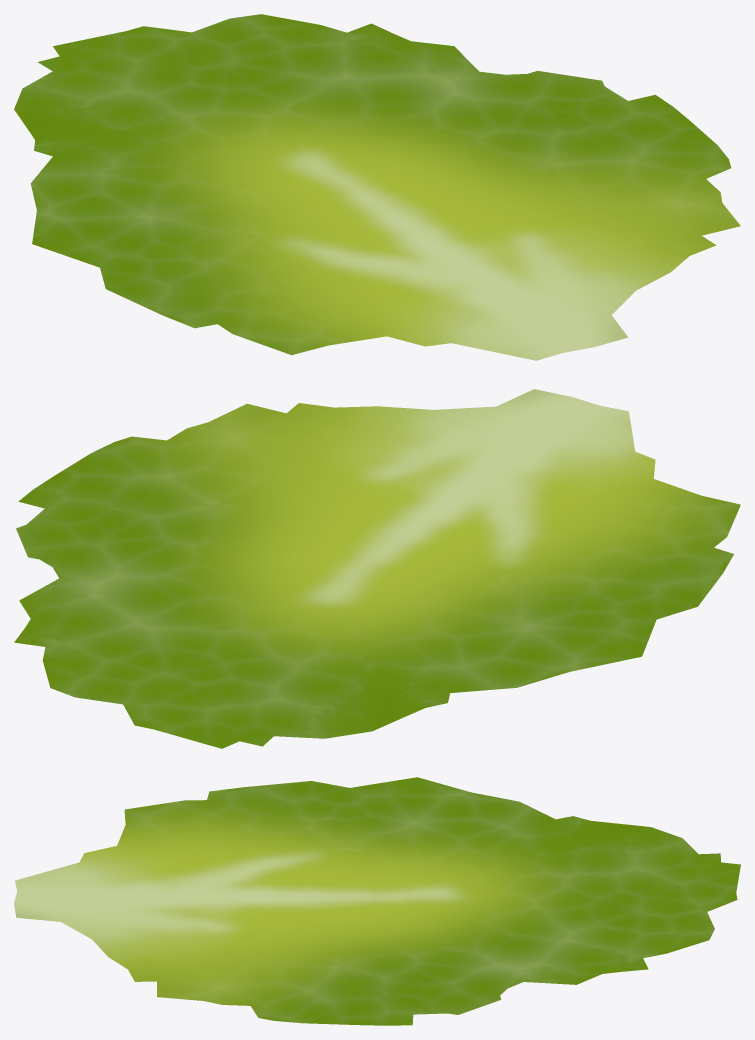
File: CabbageSlice_Flat.fbx
3 renders of one model, top to bottom at view 1: azimuth 30°, elevation 25°; view 2: azimuth 150°, elevation 25°; view 3: azimuth 270°, elevation 25°, orthographic. The views are drawn at different scales.
Parts seen in each view (by area): view 1: Lettuce slice_flat; view 2: Lettuce slice_flat; view 3: Lettuce slice_flat.
Part boxes in pixels (x1,y1,x2,y2): Lettuce slice_flat: (14, 14, 740, 360); Lettuce slice_flat: (14, 389, 740, 748); Lettuce slice_flat: (14, 777, 740, 1025).
Size of the model in its own units: 15.06 by 3.07e-06 by 18.62.
